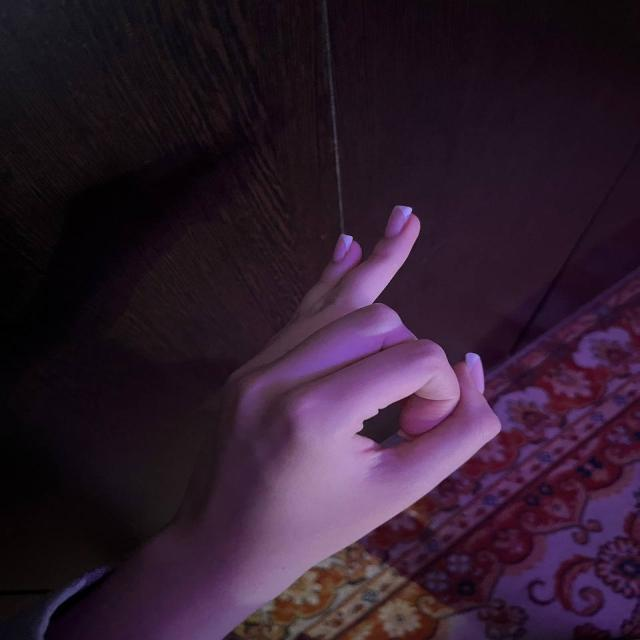i-: (226, 190, 524, 550)
